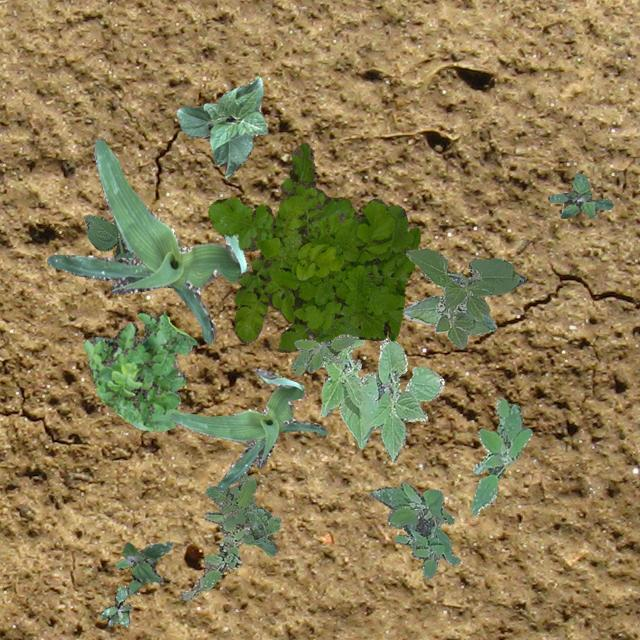crop: (48, 138, 248, 342), (170, 366, 326, 491), (320, 338, 444, 460), (402, 248, 524, 348), (176, 76, 266, 176), (92, 336, 112, 344)
weed: (234, 178, 418, 354), (206, 140, 354, 306), (82, 310, 196, 430), (368, 480, 458, 578), (470, 396, 530, 514), (180, 510, 250, 600), (206, 472, 280, 554), (115, 540, 172, 594), (546, 172, 612, 218), (290, 334, 358, 374), (84, 214, 134, 256), (98, 584, 132, 626)
